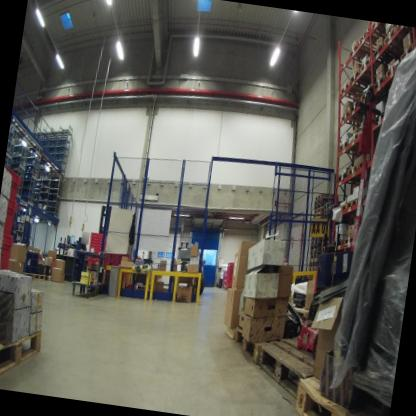pallet: (252, 328, 331, 410), (290, 373, 391, 416), (0, 310, 52, 391), (228, 318, 291, 366), (345, 98, 383, 126), (382, 27, 416, 57), (219, 316, 249, 346), (337, 105, 376, 128), (357, 28, 386, 58), (337, 135, 371, 160), (347, 127, 377, 151), (348, 67, 381, 88), (337, 81, 368, 103), (335, 169, 369, 189), (356, 147, 381, 174), (13, 264, 36, 290), (357, 88, 380, 111), (345, 162, 372, 181), (344, 192, 362, 220), (347, 42, 370, 63), (398, 40, 415, 65), (370, 69, 386, 95), (385, 54, 400, 79), (314, 188, 334, 203), (334, 197, 348, 218), (342, 233, 360, 249), (312, 194, 329, 209), (330, 234, 343, 252), (367, 22, 390, 32), (32, 269, 45, 286), (308, 245, 322, 258), (308, 235, 321, 248), (312, 199, 326, 211), (307, 251, 324, 260), (305, 263, 319, 273), (308, 255, 323, 264), (312, 204, 324, 215), (323, 202, 335, 213), (309, 241, 321, 252), (320, 232, 331, 243), (312, 210, 324, 220), (309, 231, 323, 239), (320, 238, 332, 247), (222, 283, 232, 293), (307, 259, 319, 267), (322, 244, 331, 254), (44, 275, 52, 285), (322, 212, 331, 219), (220, 284, 225, 290)
small_load_carrier: (1, 161, 27, 202), (0, 196, 24, 240), (0, 229, 15, 270), (91, 256, 103, 269), (86, 256, 94, 270)
